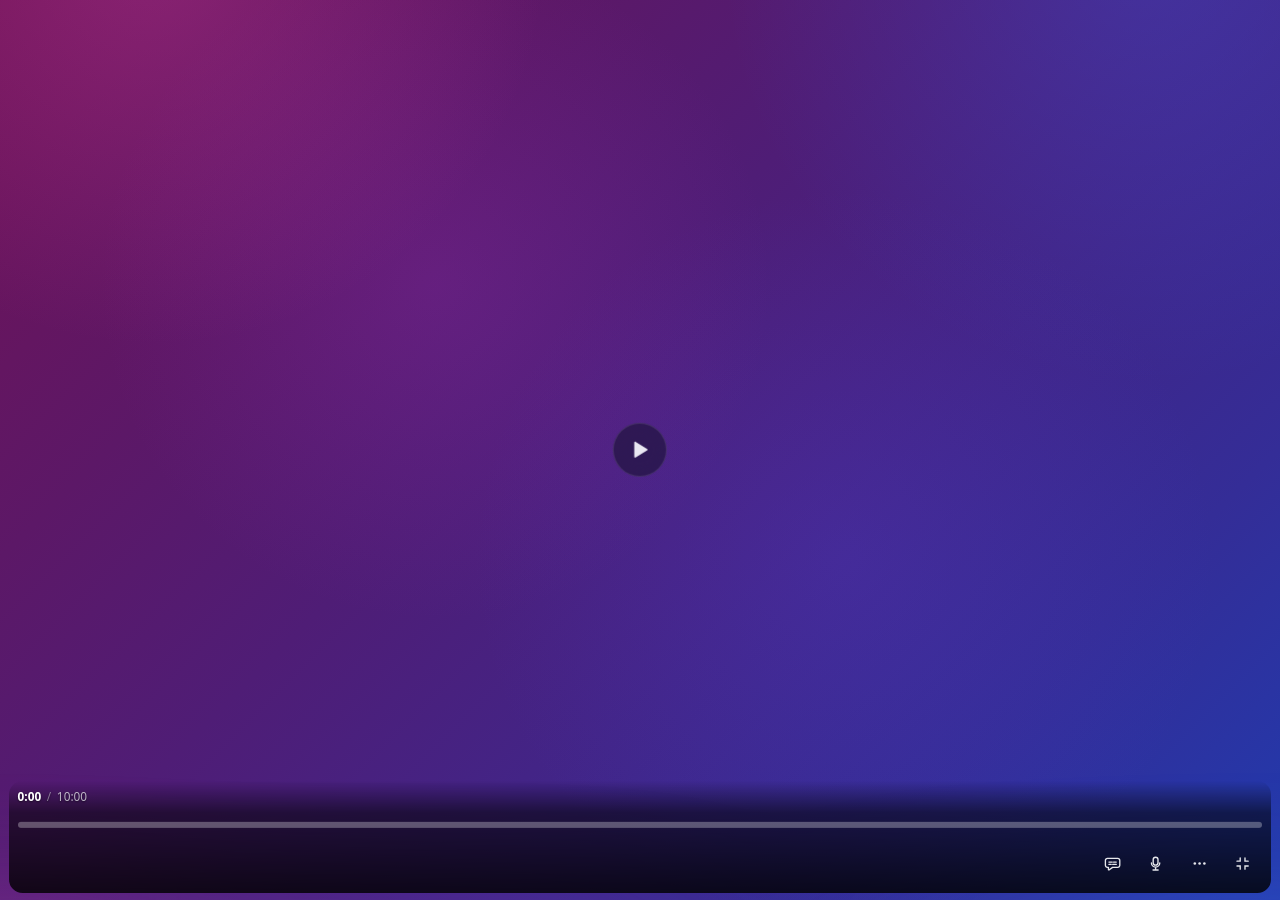
ElvernPlayerOverlay controls visibility › opening More then tapping outside the player closes More
Click the button named "More options".
click(1199, 864)  # box [1179,844,1219,884]
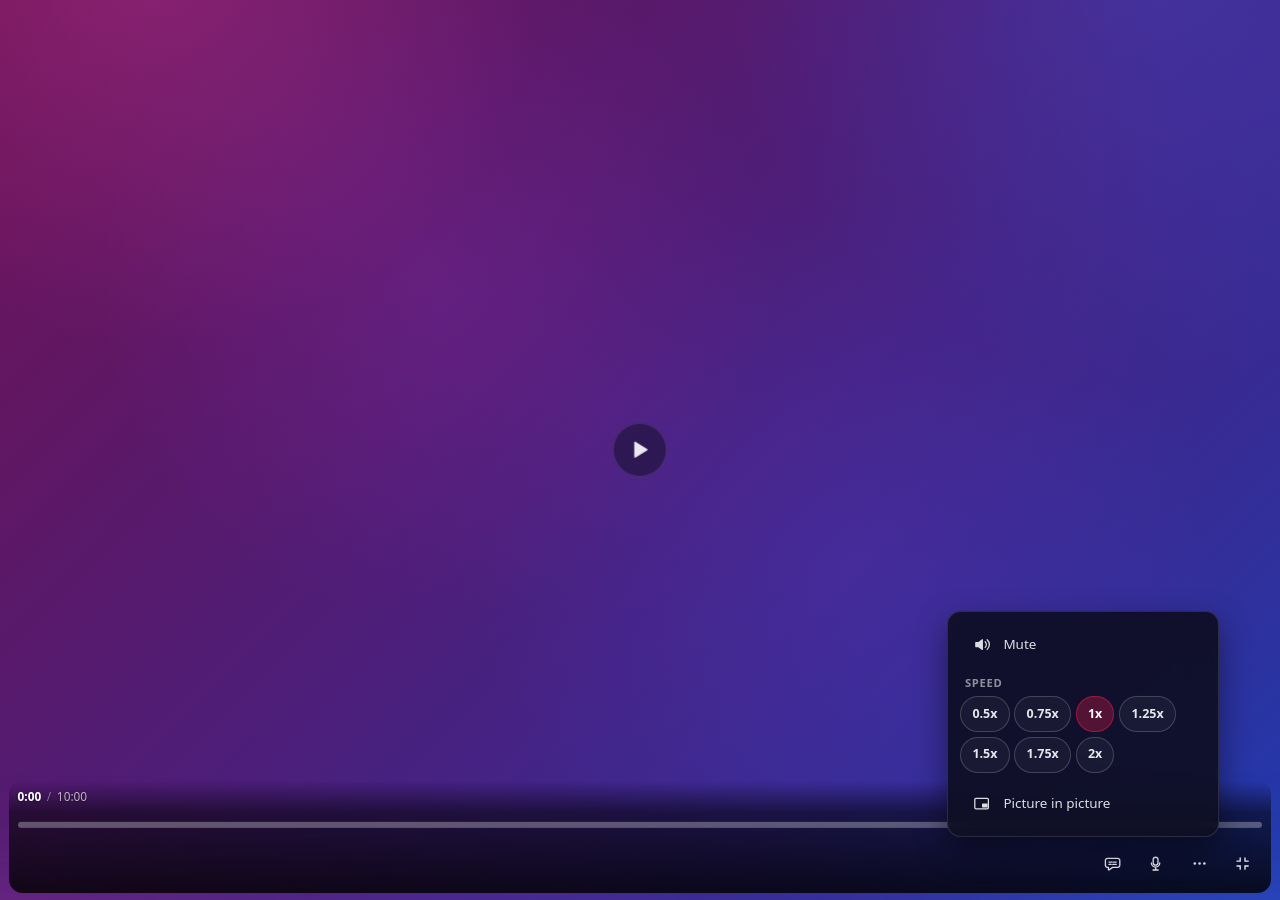
Expected: the menu is shown, [947,611,1219,837]
Press the mouse on the element that starts with "Mute" at (640, 450), box [0,0,1279,899]
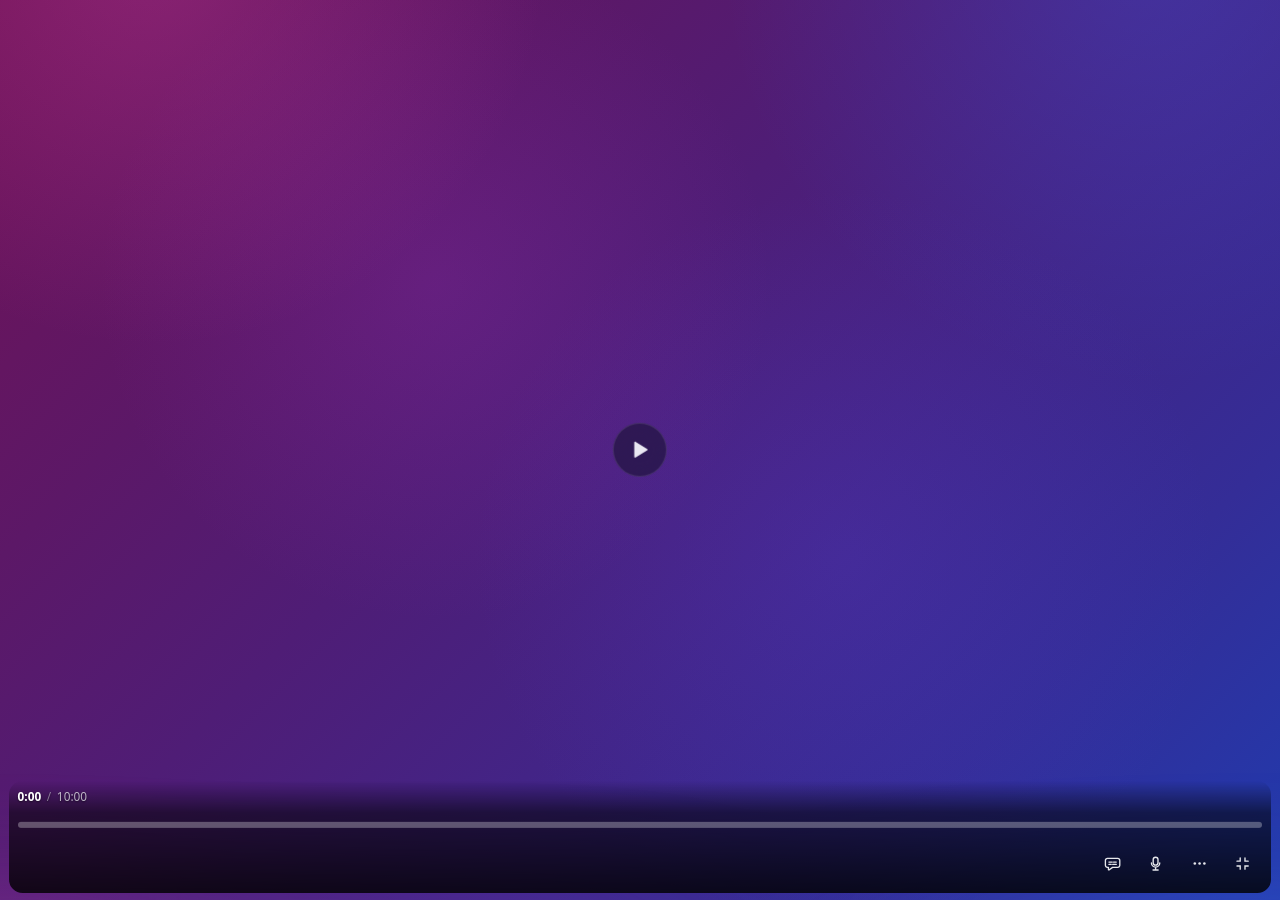
Expected: the menu is gone
